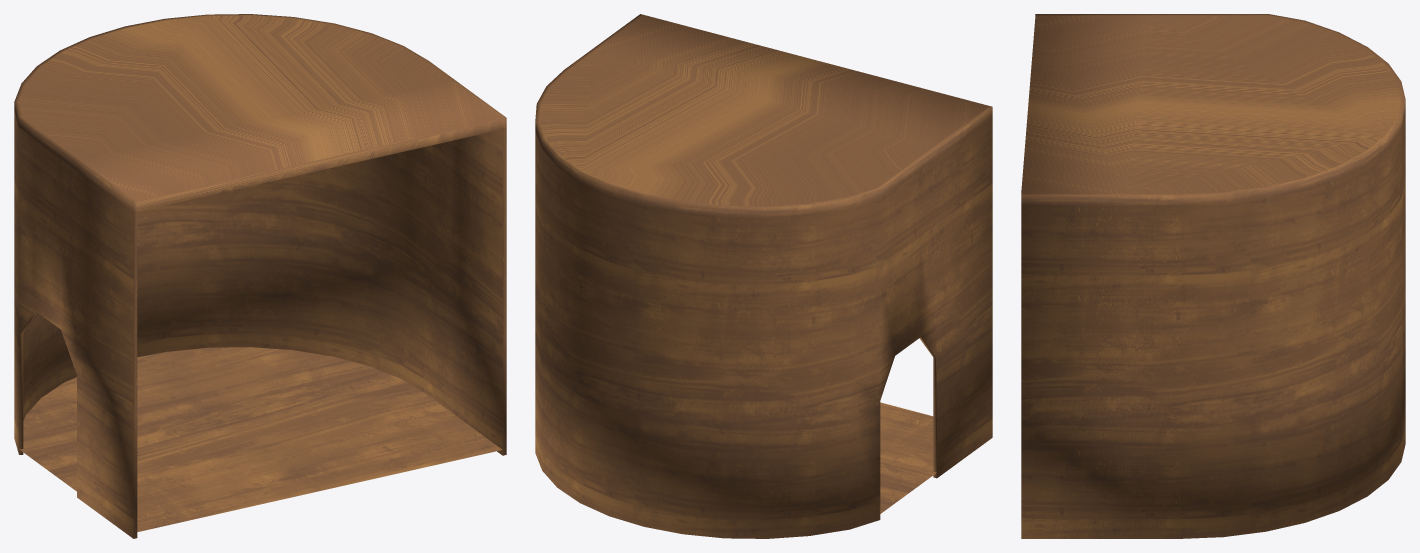
Rendered from SecondShop_Walls.glb.
The picture shows the model from 3 angles, left to right: view 1: azimuth 30°, elevation 25°; view 2: azimuth 150°, elevation 25°; view 3: azimuth 270°, elevation 25°; orthographic projection. The views are drawn at different scales.
Parts seen in each view (by area): view 1: Cylinder.001; view 2: Cylinder.001; view 3: Cylinder.001.
Boxes of the visible parts, x1,y1,x2,y2 form: Cylinder.001: (14,14,506,538); Cylinder.001: (535,14,992,538); Cylinder.001: (1021,14,1405,538).
Size of the model in its own units: 2.55 by 2.25 by 2.28.
1 material, 1 textured.
